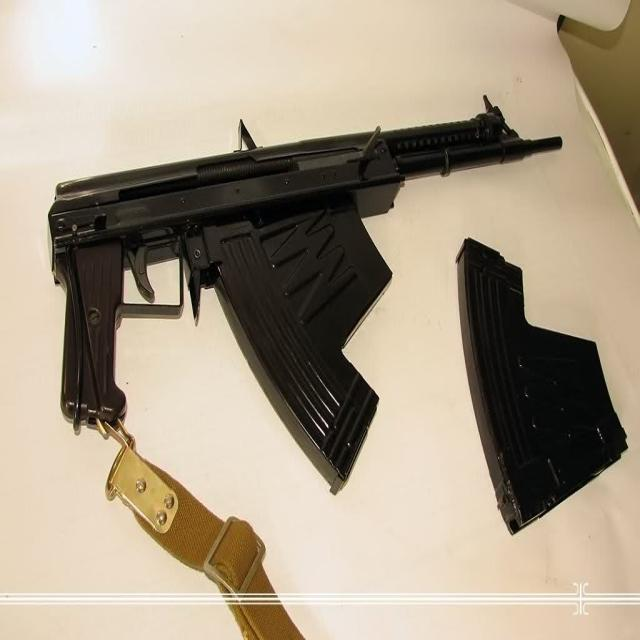firearm: (50, 97, 563, 427)
